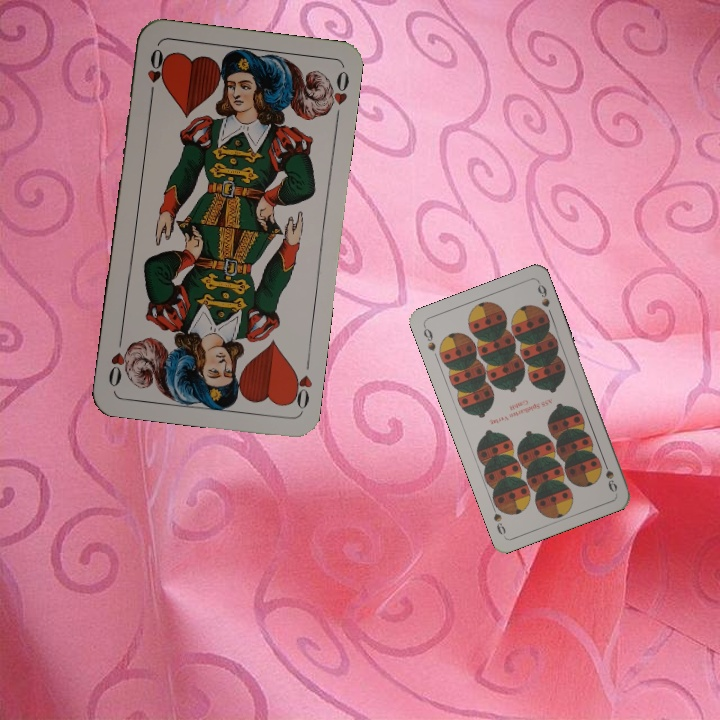HO: (285, 354, 315, 412), (143, 44, 168, 102)
S9: (599, 455, 620, 495), (419, 322, 438, 354)
